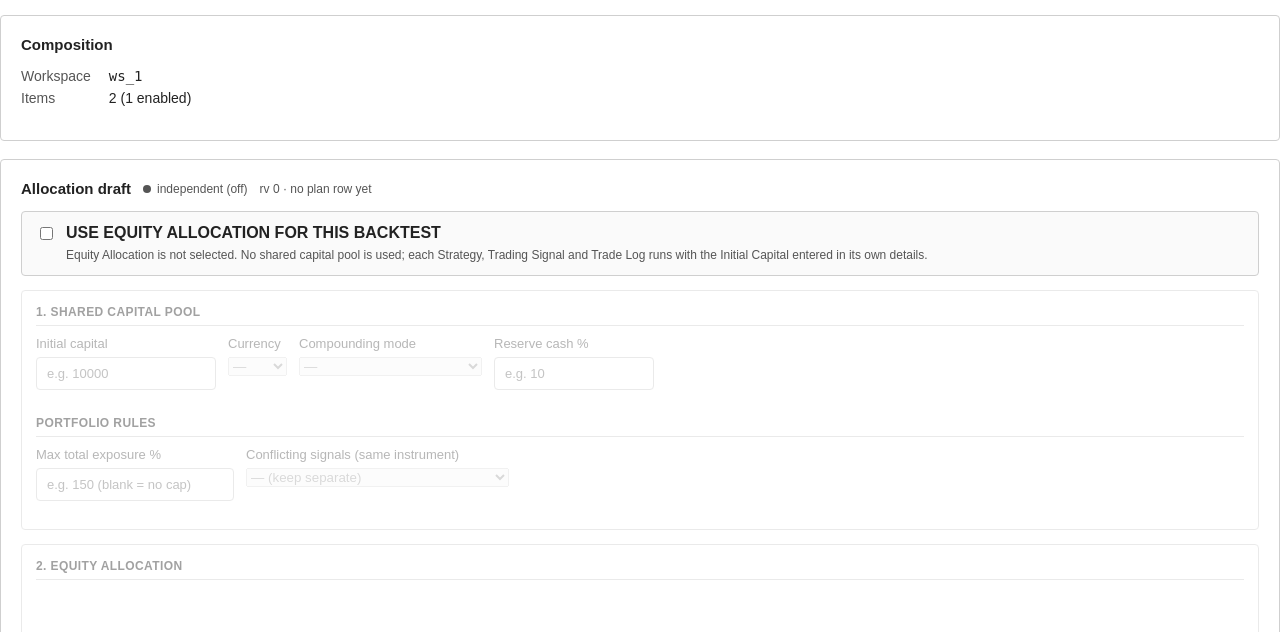
Test: Portfolio / Equity Allocation page › sends the portfolio rules (max exposure + conflict policy) when set
Click the checkbox labelled "USE EQUITY ALLOCATION FOR THIS BACKTEST": (46, 234) x1=40 y1=227 x2=53 y2=240
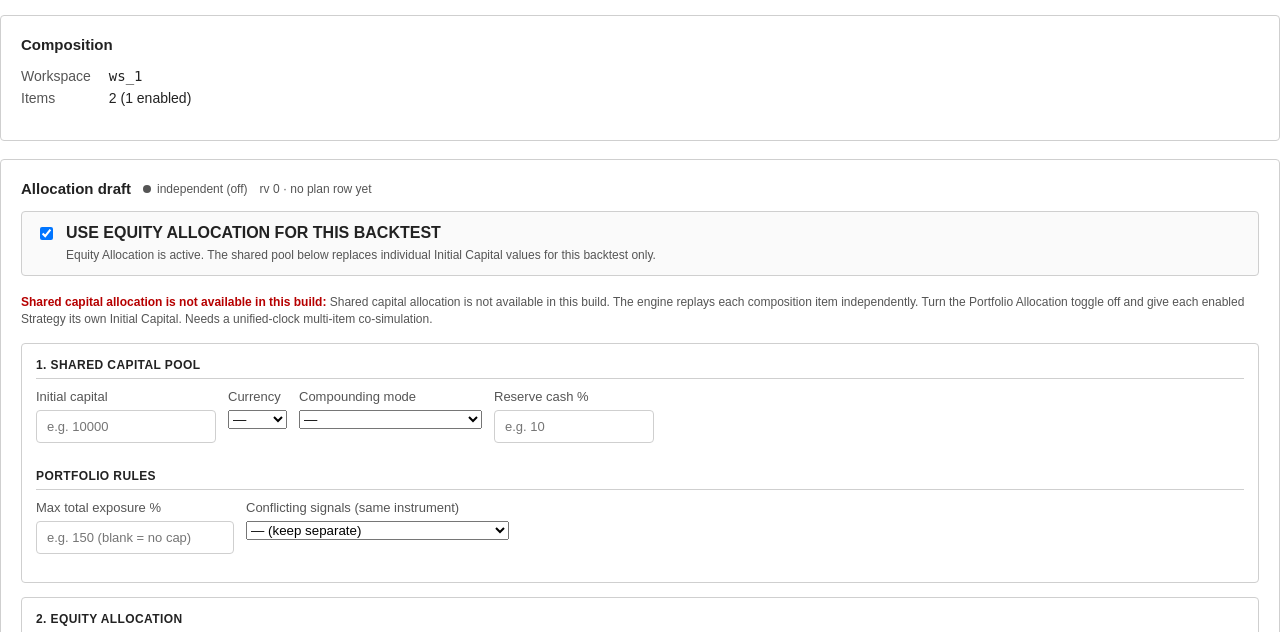
In the field labelled "Max total exposure %": (135, 537) x1=36 y1=521 x2=234 y2=554, type "150"
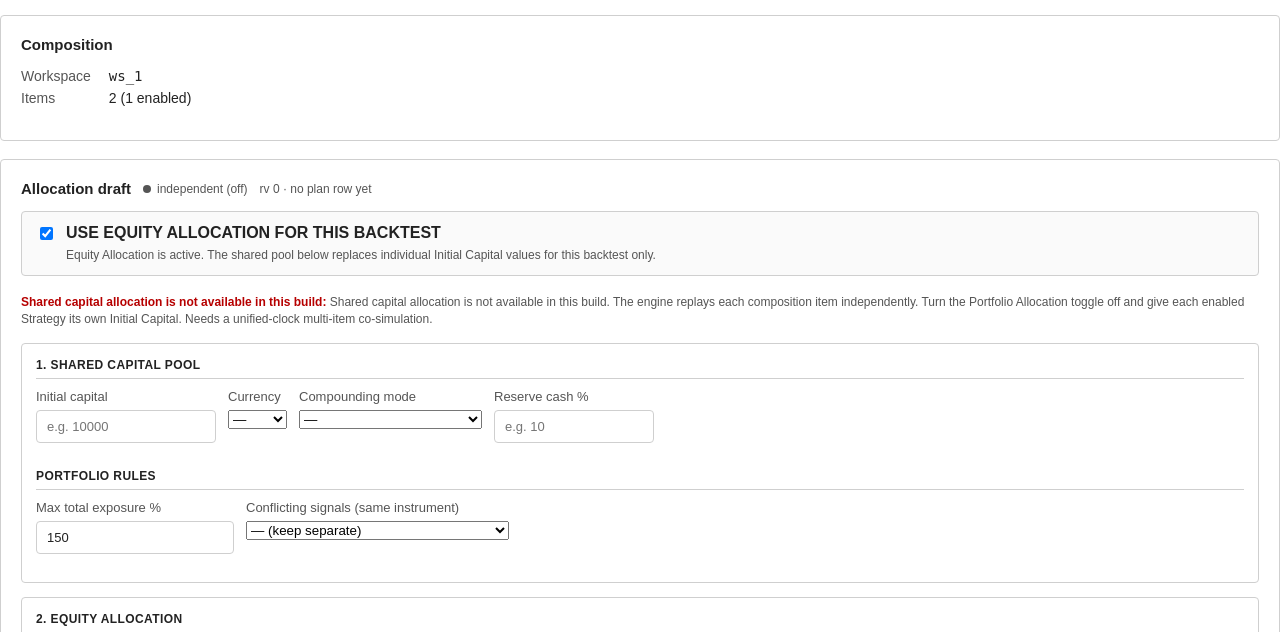
Select "Block opposite (earlier-pinned item wins)" in the dropdown labelled "Conflicting signals (same instrument)": (378, 530) x1=246 y1=521 x2=509 y2=540
(page scrolled)
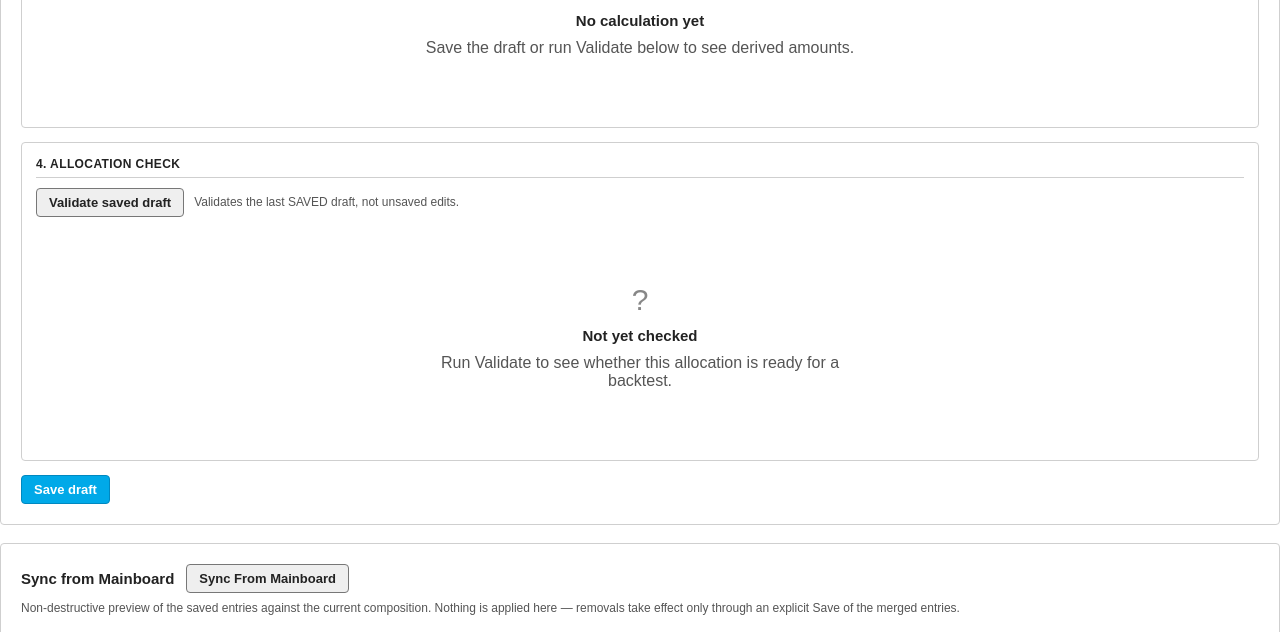
Click the button "Save draft": (65, 489) x1=21 y1=475 x2=110 y2=504
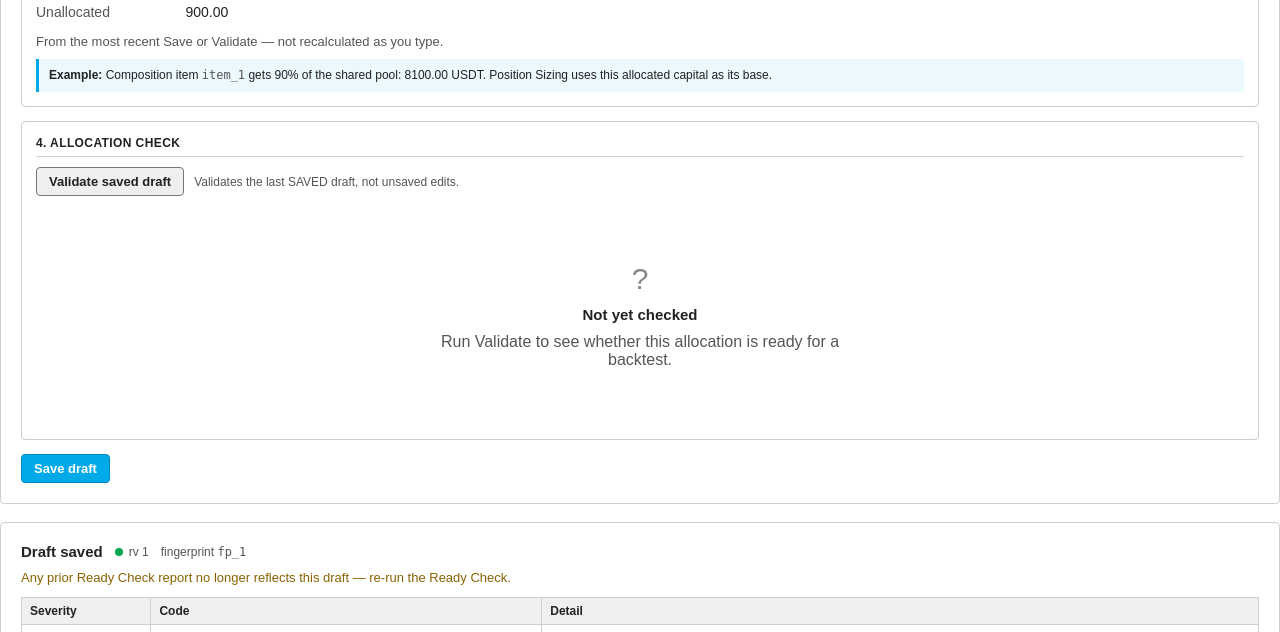
Now the heading "Draft saved" is shown, box x1=21 y1=543 x2=103 y2=560
